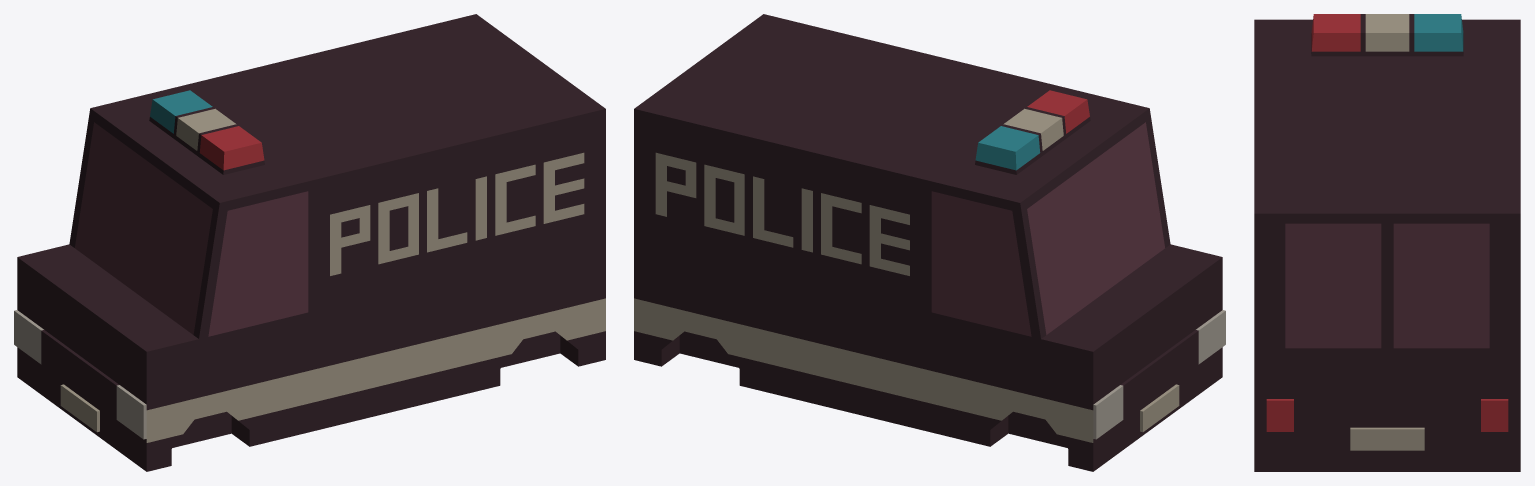
The model's file is Van_Police.fbx.
3 views of the same model, side by side, from view 1: azimuth 30°, elevation 25°; view 2: azimuth 150°, elevation 25°; view 3: azimuth 270°, elevation 25° (orthographic). The views are drawn at different scales.
Parts seen in each view (by area): view 1: Van_Police, Van_PoliceLights; view 2: Van_Police, Van_PoliceLights; view 3: Van_Police, Van_PoliceLights.
Part boxes in pixels (x1,y1,x2,y2): Van_Police: (17,14,605,471); Van_PoliceLights: (14,90,264,439); Van_Police: (634,14,1222,471); Van_PoliceLights: (975,90,1225,439); Van_Police: (1254,14,1520,471); Van_PoliceLights: (1266,14,1508,431).
Bounding box in the file's own units: 4.46 × 2.5 × 2.15.
